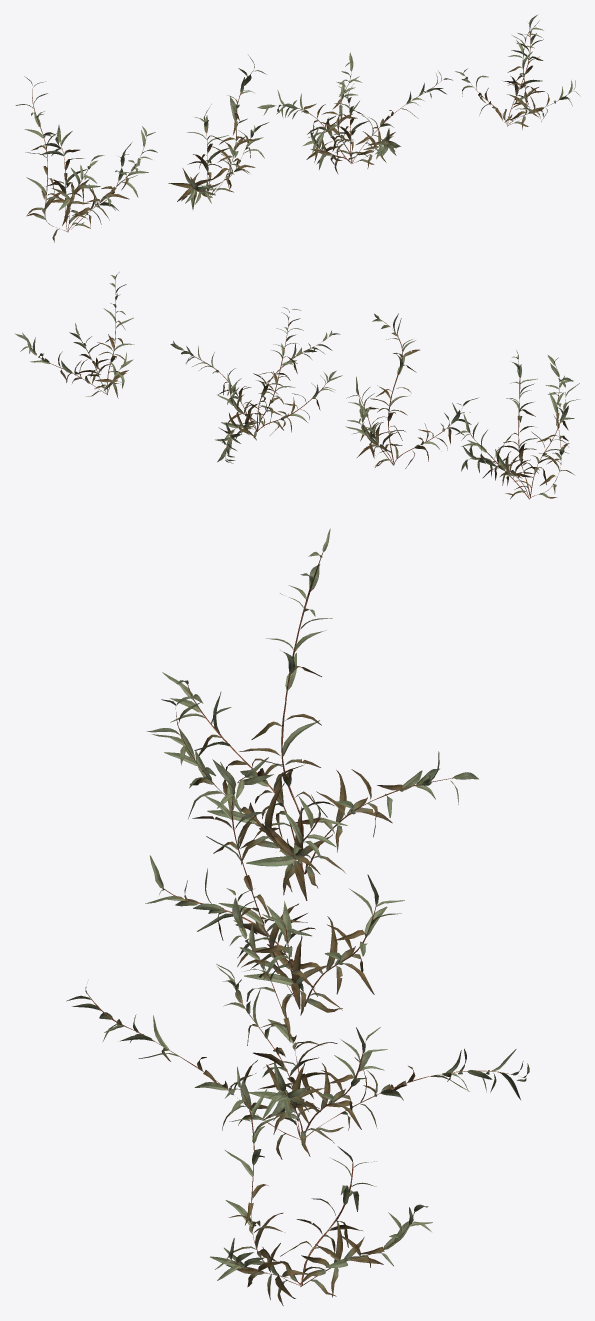
The model's file is shrub-02.glb.
3 views of the same model, one above another, from view 1: azimuth 30°, elevation 25°; view 2: azimuth 150°, elevation 25°; view 3: azimuth 270°, elevation 25° (orthographic). The views are drawn at different scales.
Visible parts, largest first — view 1: shrub_02_c, shrub_02_a, shrub_02_b, shrub_02_d; view 2: shrub_02_a, shrub_02_c, shrub_02_b, shrub_02_d; view 3: shrub_02_a, shrub_02_c, shrub_02_b, shrub_02_d.
Boxes of the visible parts, x1=… form: shrub_02_c: x1=257, y1=52, x2=452, y2=174; shrub_02_a: x1=15, y1=76, x2=157, y2=242; shrub_02_b: x1=168, y1=55, x2=268, y2=209; shrub_02_d: x1=455, y1=15, x2=580, y2=129; shrub_02_a: x1=455, y1=350, x2=579, y2=499; shrub_02_c: x1=170, y1=307, x2=342, y2=463; shrub_02_b: x1=345, y1=313, x2=478, y2=468; shrub_02_d: x1=15, y1=272, x2=134, y2=398; shrub_02_a: x1=146, y1=528, x2=478, y2=900; shrub_02_c: x1=66, y1=888, x2=529, y2=1159; shrub_02_b: x1=145, y1=757, x2=404, y2=1018; shrub_02_d: x1=210, y1=1066, x2=432, y2=1305.
Bounding box in the file's own units: 6.05 × 1.7 × 2.29.
Materials: 1 (1 with a texture image).
